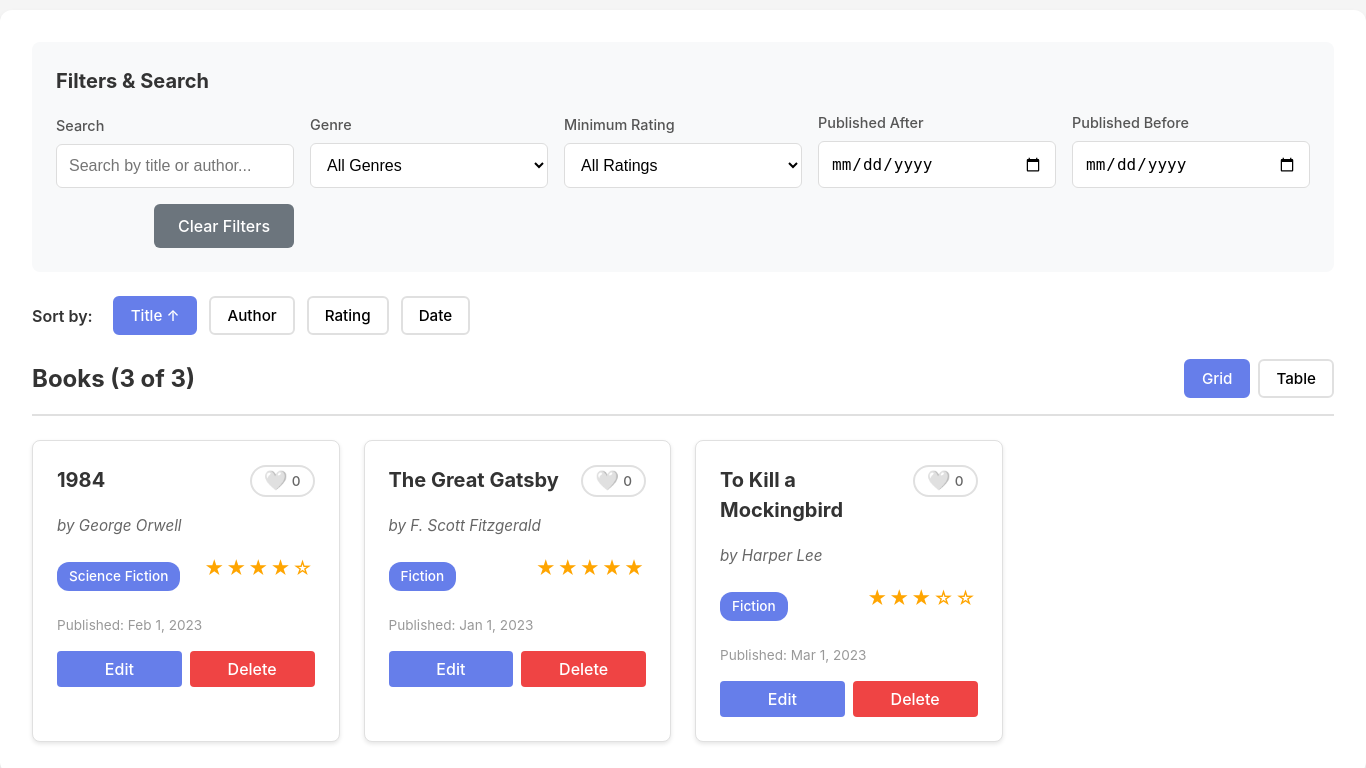
Test: BookList › Filtering and Sorting › filters books by genre
This screenshot has width=1366, height=768.
Select "Fiction" in the dropdown labelled "Genre" at (429,166), box [310, 143, 548, 188]
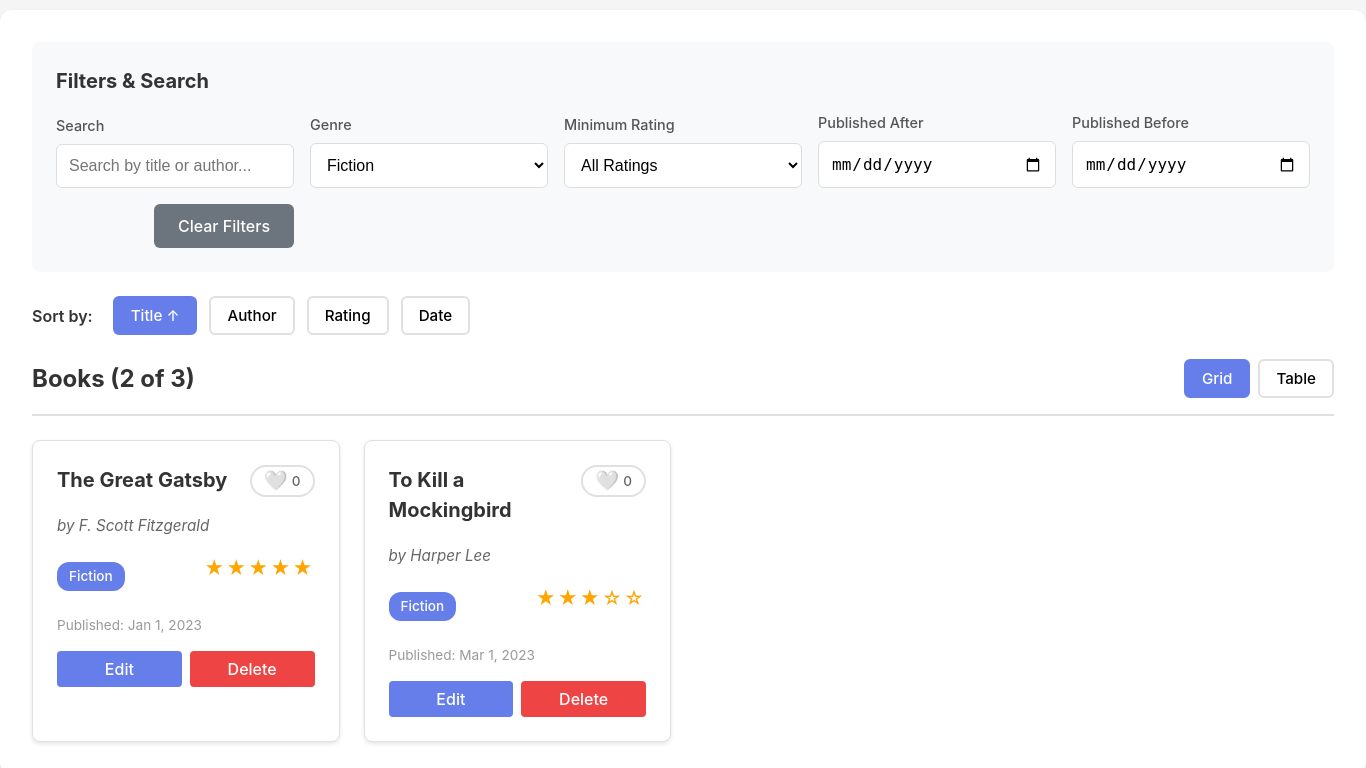
Expected: the heading "The Great Gatsby" is shown, [57, 465, 234, 495]
Expected: the heading "1984" is gone
